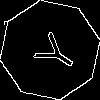Y: (25, 25, 81, 78)
